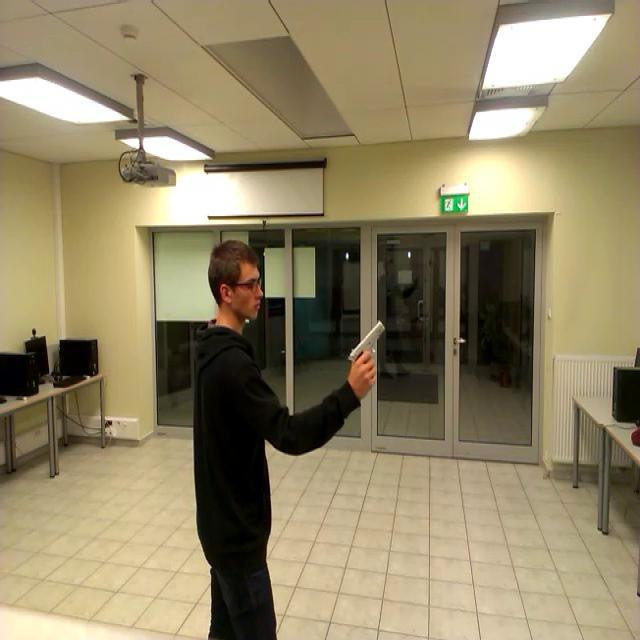Gun: (346, 319, 384, 378)
